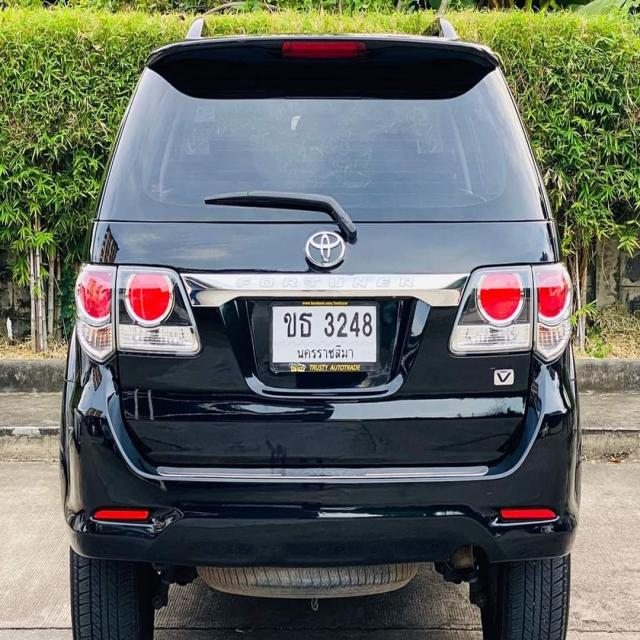license_plate: (270, 295, 380, 375)
